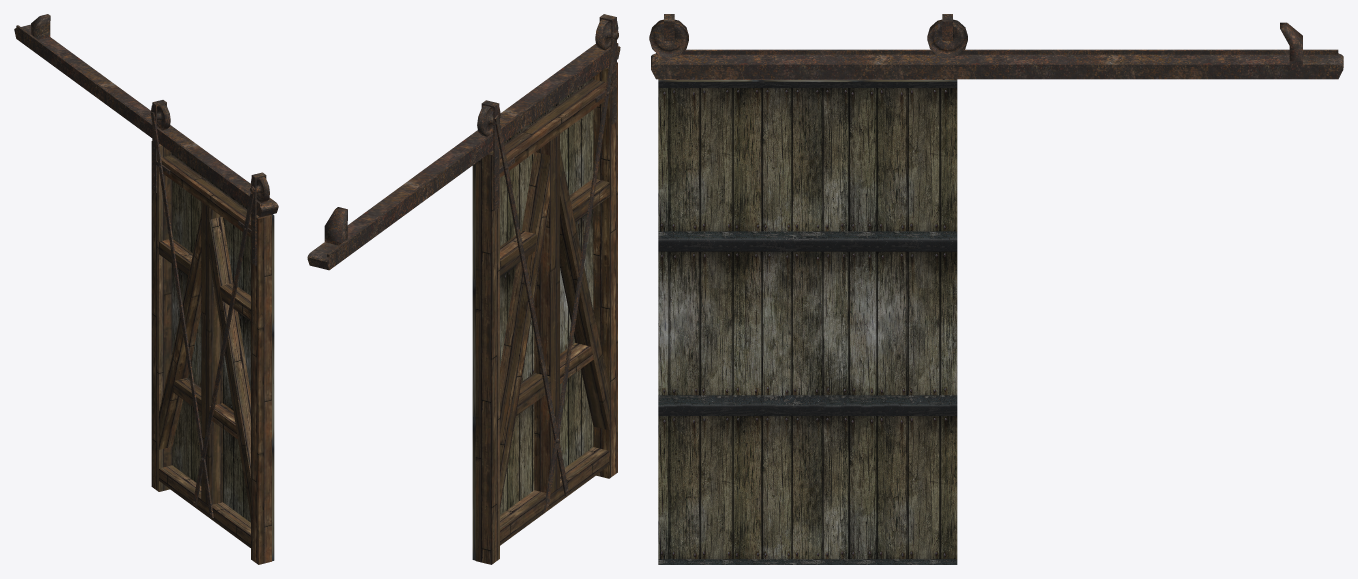
The model's file is SlidingDoor_mirrored.FBX.
3 renders of one model, left to right at view 1: azimuth 30°, elevation 25°; view 2: azimuth 150°, elevation 25°; view 3: azimuth 270°, elevation 25°, orthographic. The views are drawn at different scales.
Visible parts, largest first — view 1: blanks, Plane, Cube.000, Cube.006; view 2: blanks, Plane, Cube.000, Cube.006; view 3: Plane, Cube.000, Cube.006.
Boxes of the visible parts, bbox=[...] form: blanks: bbox=[151, 141, 271, 564]; Plane: bbox=[172, 153, 274, 561]; Cube.000: bbox=[14, 14, 278, 217]; Cube.006: bbox=[150, 100, 269, 547]; blanks: bbox=[475, 62, 617, 564]; Plane: bbox=[472, 77, 593, 560]; Cube.000: bbox=[307, 43, 620, 270]; Cube.006: bbox=[477, 14, 618, 545]; Plane: bbox=[658, 80, 957, 564]; Cube.000: bbox=[651, 22, 1343, 79]; Cube.006: bbox=[649, 14, 967, 79].
Bounding box in the file's own units: 13.12 × 267 × 229.
